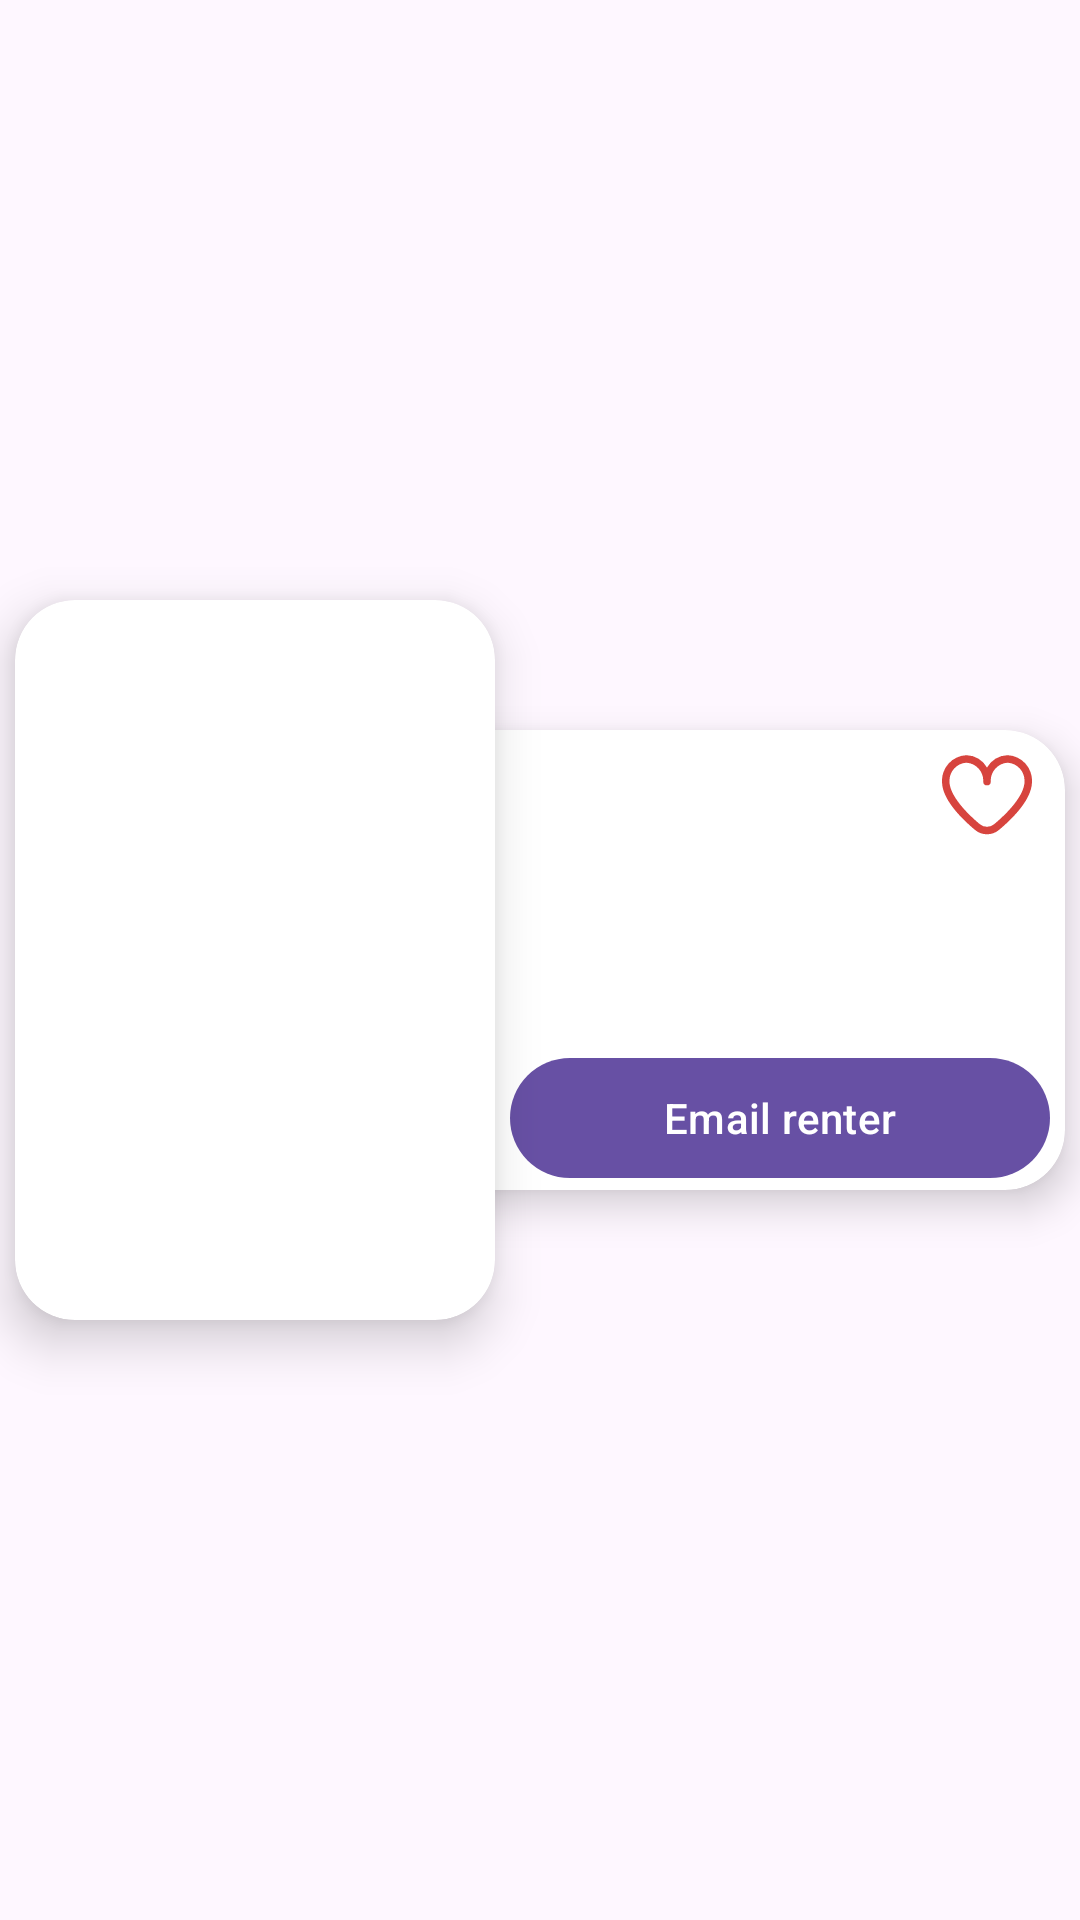

Icon bounding boxes for this 1080px x 1920px phone screenshot, format detection(x1, y1, x2, y2):
empty heart: detection(942, 755, 1032, 835)
